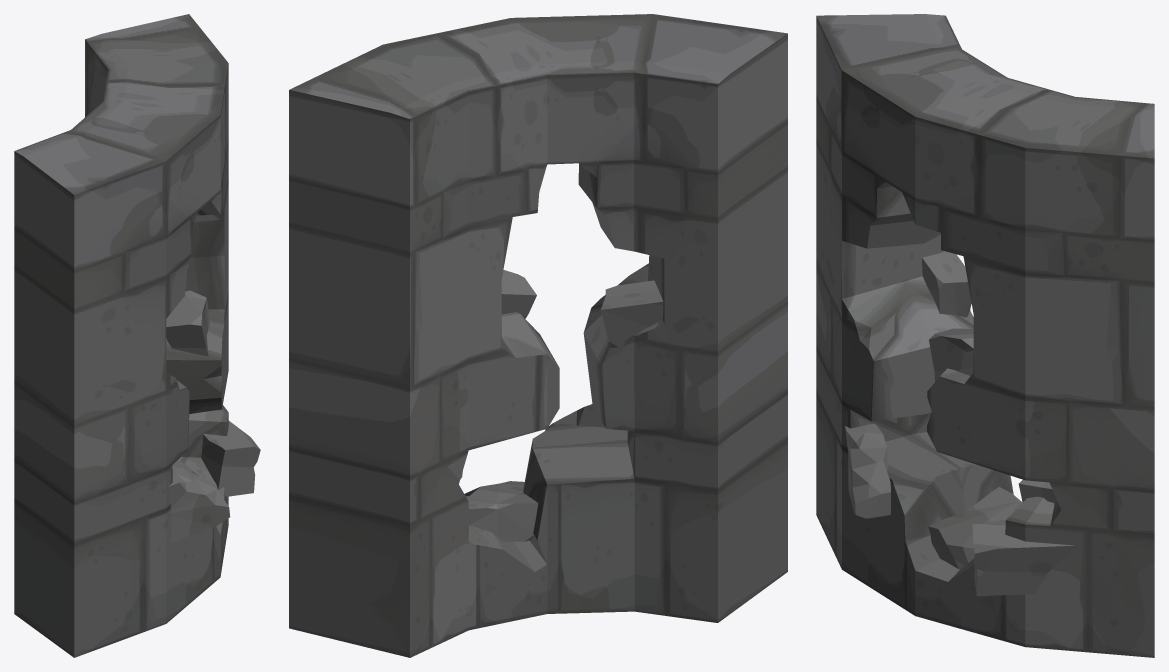
File: SM_Bld_Wall_L_Curve_Damaged_03.fbx
The picture shows the model from 3 angles, left to right: view 1: azimuth 30°, elevation 25°; view 2: azimuth 150°, elevation 25°; view 3: azimuth 270°, elevation 25°; orthographic projection. The views are drawn at different scales.
Parts seen in each view (by area): view 1: SM_Bld_Wall_L_Curve_Damaged_03; view 2: SM_Bld_Wall_L_Curve_Damaged_03; view 3: SM_Bld_Wall_L_Curve_Damaged_03.
Boxes of the visible parts, box(x1,y1,x2,y2) form: SM_Bld_Wall_L_Curve_Damaged_03: box(14, 14, 260, 657); SM_Bld_Wall_L_Curve_Damaged_03: box(289, 14, 787, 657); SM_Bld_Wall_L_Curve_Damaged_03: box(816, 14, 1154, 657).
Bounding box in the file's own units: 369 × 602 × 369.
